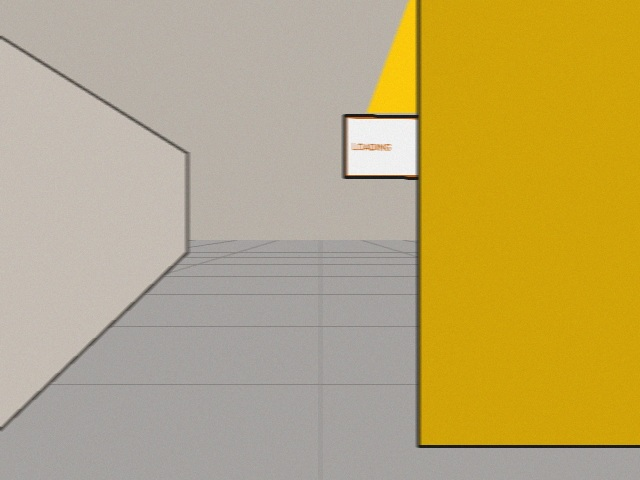directional_sign: (344, 115, 466, 178)
forklift: (367, 0, 639, 446)
